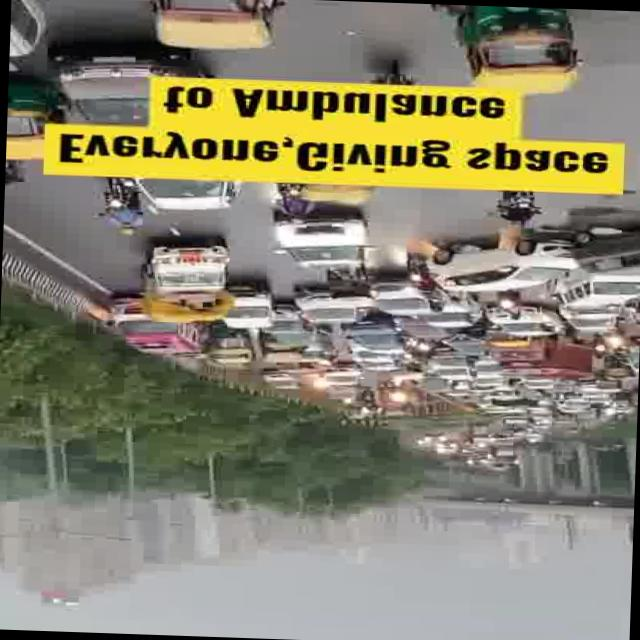ambulance: (105, 318, 204, 356)
